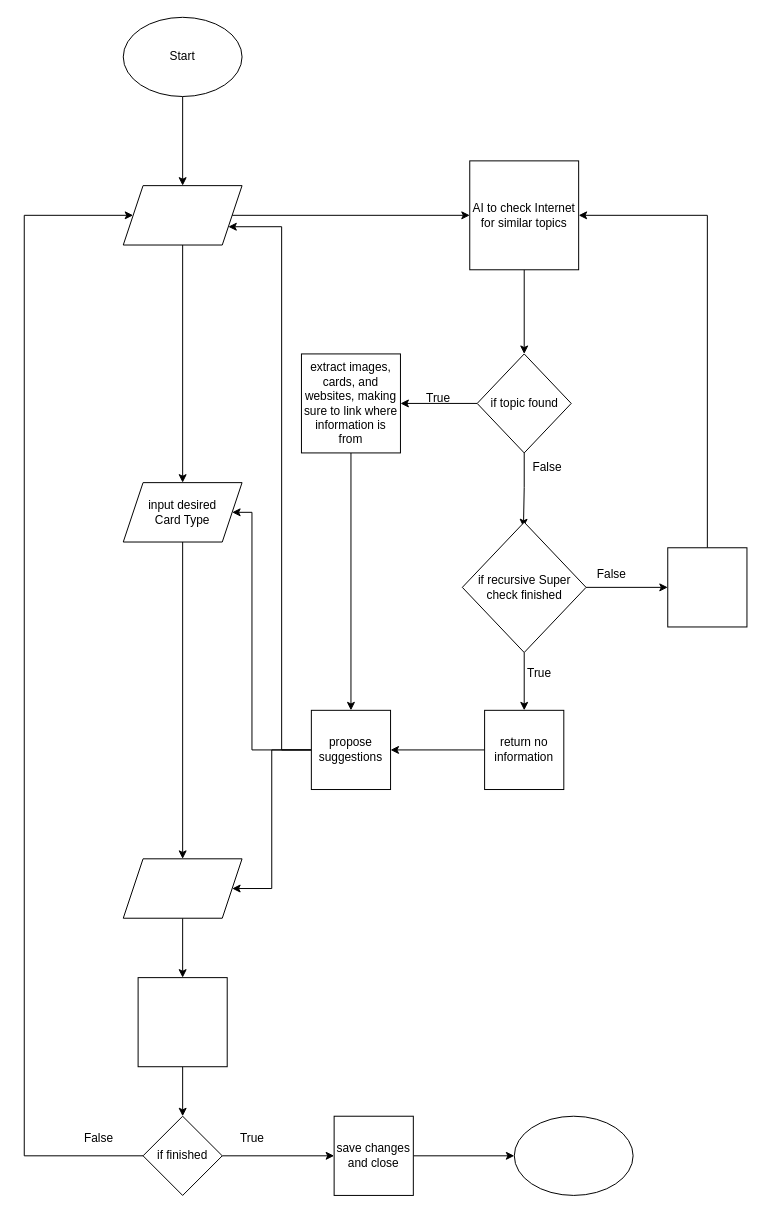
The diagram is 764 pixels wide and 1213 high, and some of its shapes have lost their labels. Each missing label, with the centre of its shape:
find Super-topic of current topic: (707,587)
import to deck: (182,1022)
input backCard: (182,888)
input frontCard: (182,215)
stop: (573,1155)
